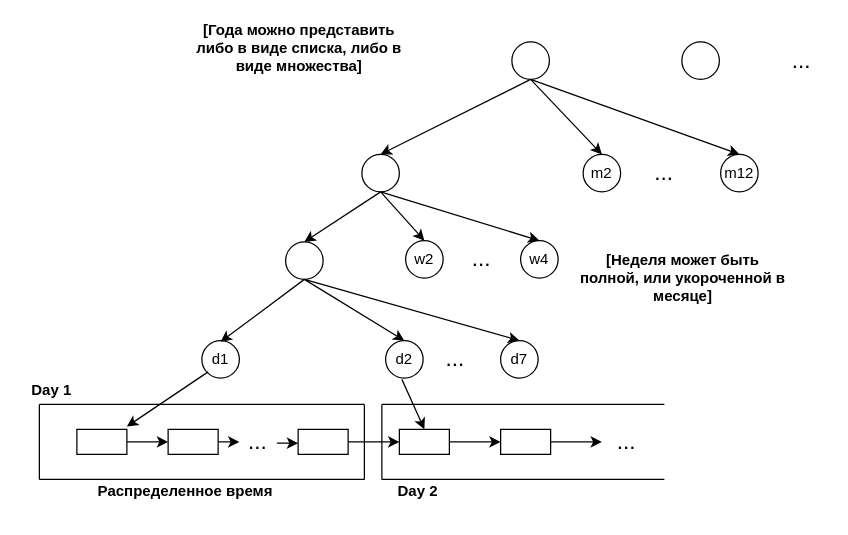
Image size: 848x535. Some labels were removed from this diagram. Here are the shapes that lost their labels. From the top down, the centre of each, then its label:
the point at 530,60: y1
the point at 700,60: y2
the point at 380,172: m1
the point at 303,260: w1
